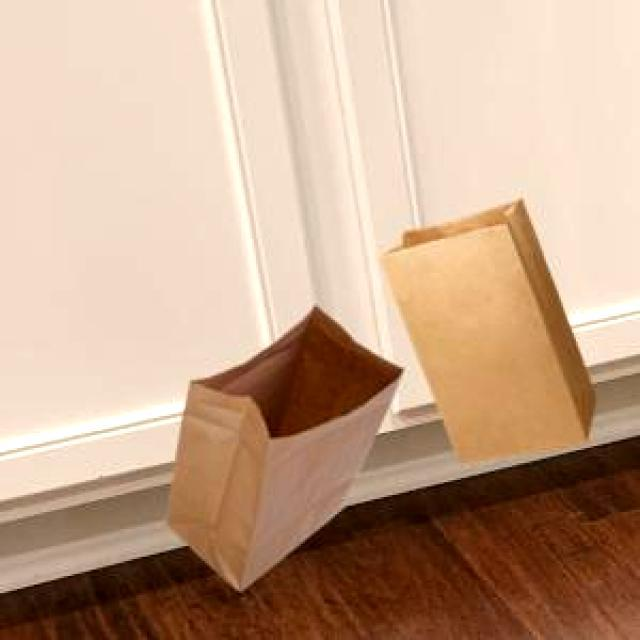Paper_Bag: (163, 304, 400, 588), (377, 195, 592, 460)
